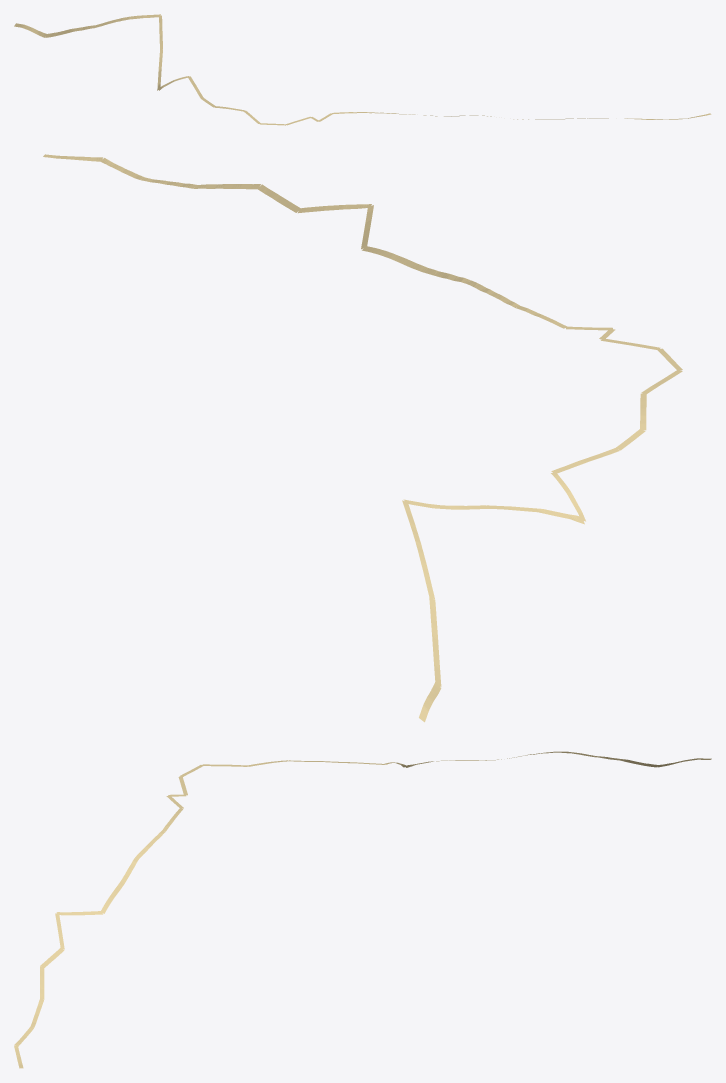
File: Trail_01.glb
3 renders of one model, top to bottom at view 1: azimuth 30°, elevation 25°; view 2: azimuth 150°, elevation 25°; view 3: azimuth 270°, elevation 25°, orthographic. The views are drawn at different scales.
Parts seen in each view (by area): view 1: Trail_01; view 2: Trail_01; view 3: Trail_01.
Boxes of the visible parts, x1,y1,x2,y2 form: Trail_01: [14, 14, 711, 125]; Trail_01: [43, 154, 682, 722]; Trail_01: [14, 751, 711, 1068].
Size of the model in its own units: 292 by 33.07 by 293.
